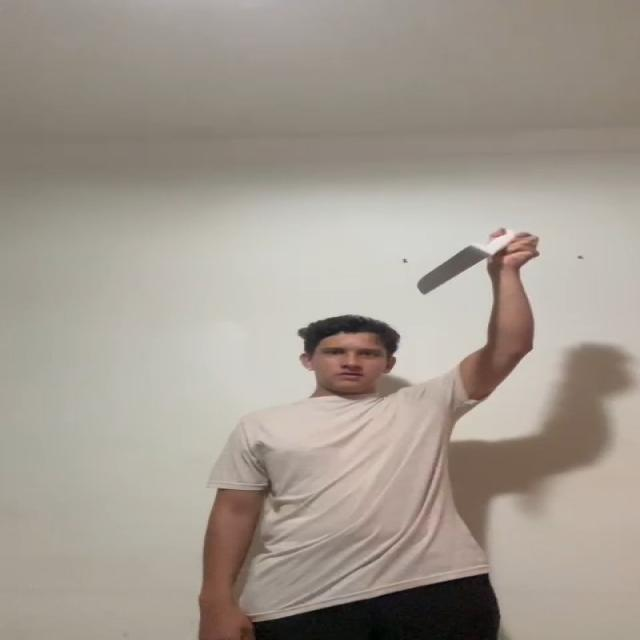knife: (413, 247, 480, 294)
